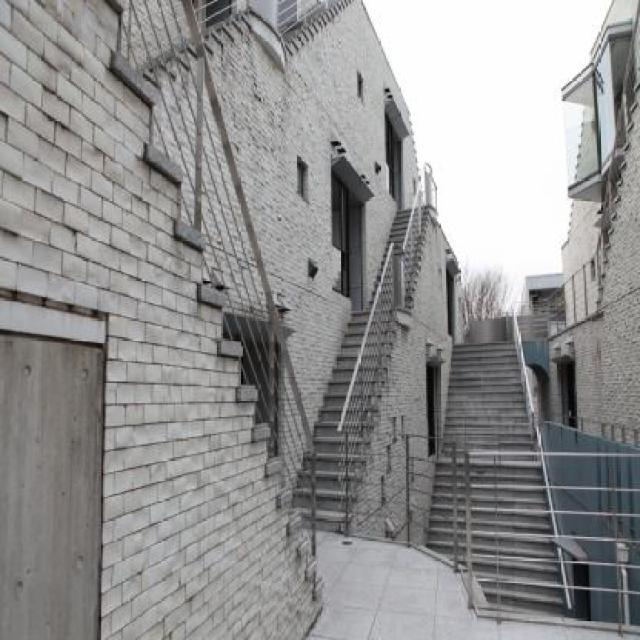stair: (290, 204, 430, 534), (422, 330, 568, 612), (592, 69, 640, 306), (132, 6, 246, 82), (281, 0, 354, 54)
